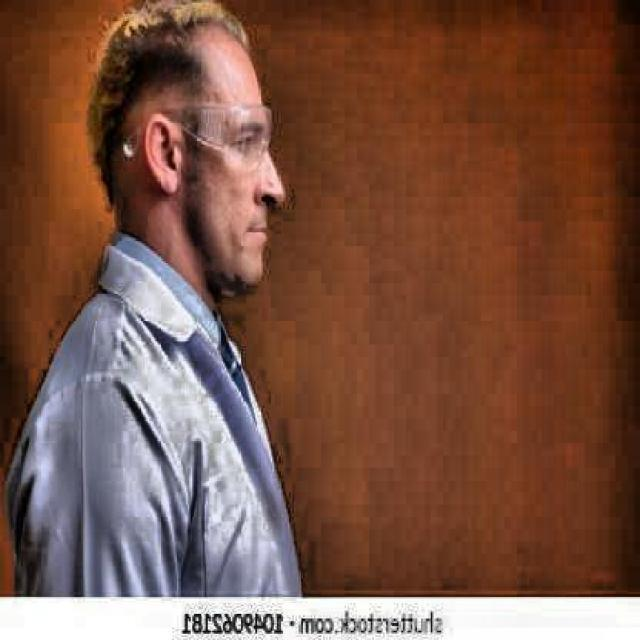Goggles: (122, 94, 290, 207)
